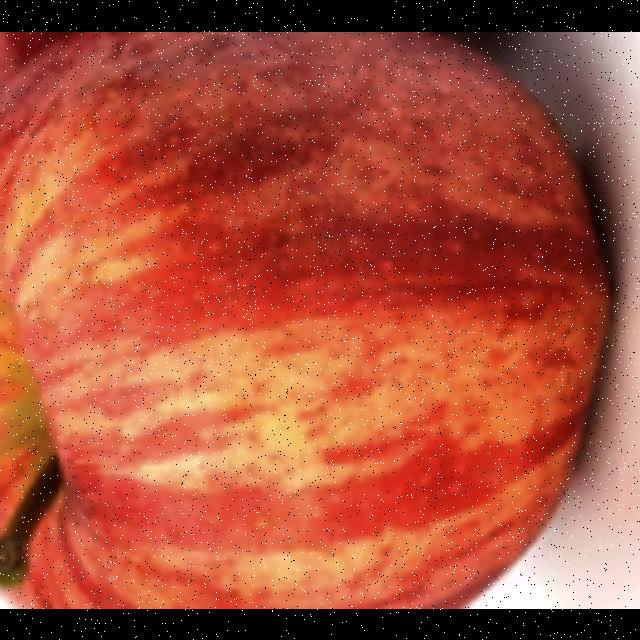Apel Segar: (0, 31, 632, 608)
